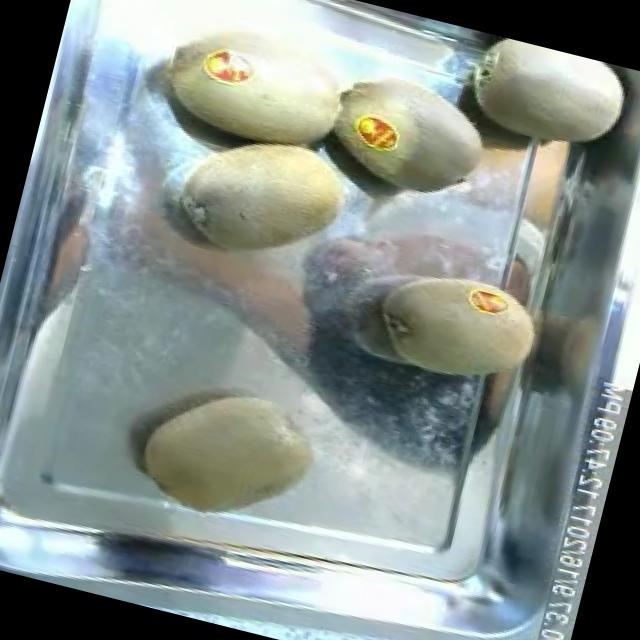Fruit: (115, 356, 338, 548), (159, 109, 372, 284), (302, 44, 504, 218), (355, 242, 556, 406), (440, 27, 640, 179)
